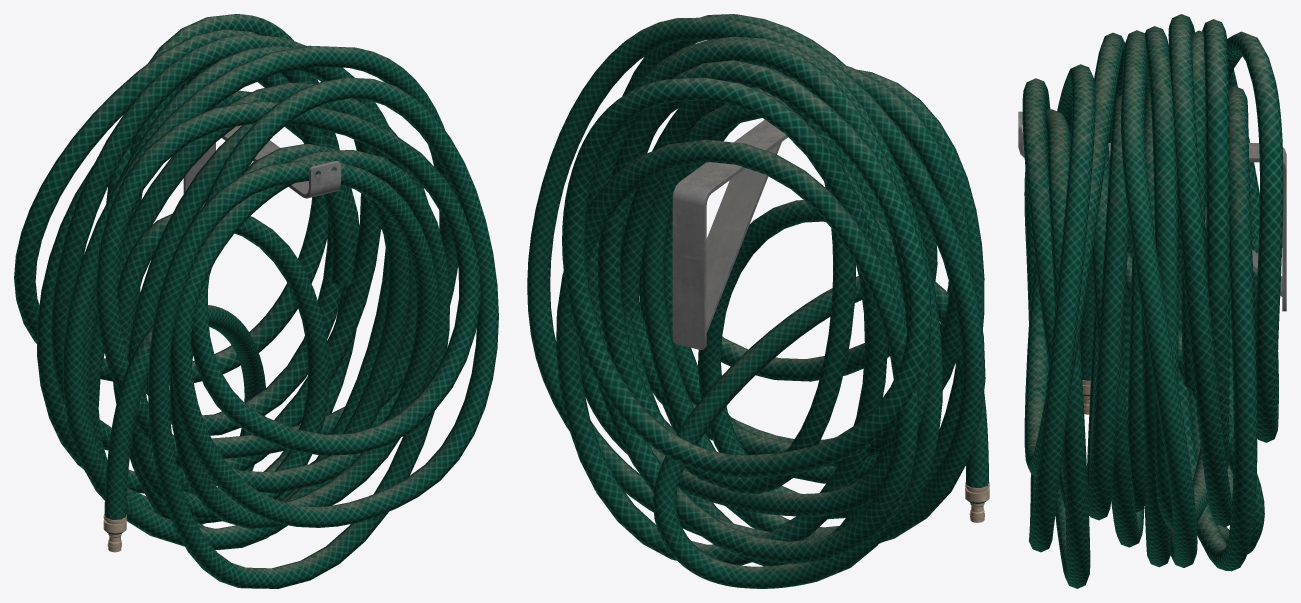
File: garden_hose_wall_mounted_01_1k.gltf
3 views of the same model, side by side, from view 1: azimuth 30°, elevation 25°; view 2: azimuth 150°, elevation 25°; view 3: azimuth 270°, elevation 25° (orthographic). The views are drawn at different scales.
Visible parts, largest first — view 1: garden_hose, garden_hose_wall_bracket; view 2: garden_hose, garden_hose_wall_bracket; view 3: garden_hose, garden_hose_wall_bracket.
Boxes of the visible parts, x1,y1,x2,y2 form: garden_hose: (14,14,498,588); garden_hose_wall_bracket: (183,125,341,207); garden_hose: (527,14,989,588); garden_hose_wall_bracket: (672,119,787,349); garden_hose: (1022,14,1283,588); garden_hose_wall_bracket: (1018,111,1286,311).
Size of the model in its own units: 0.4667 by 0.557 by 0.2503.
Materials: 1 (1 with a texture image).
